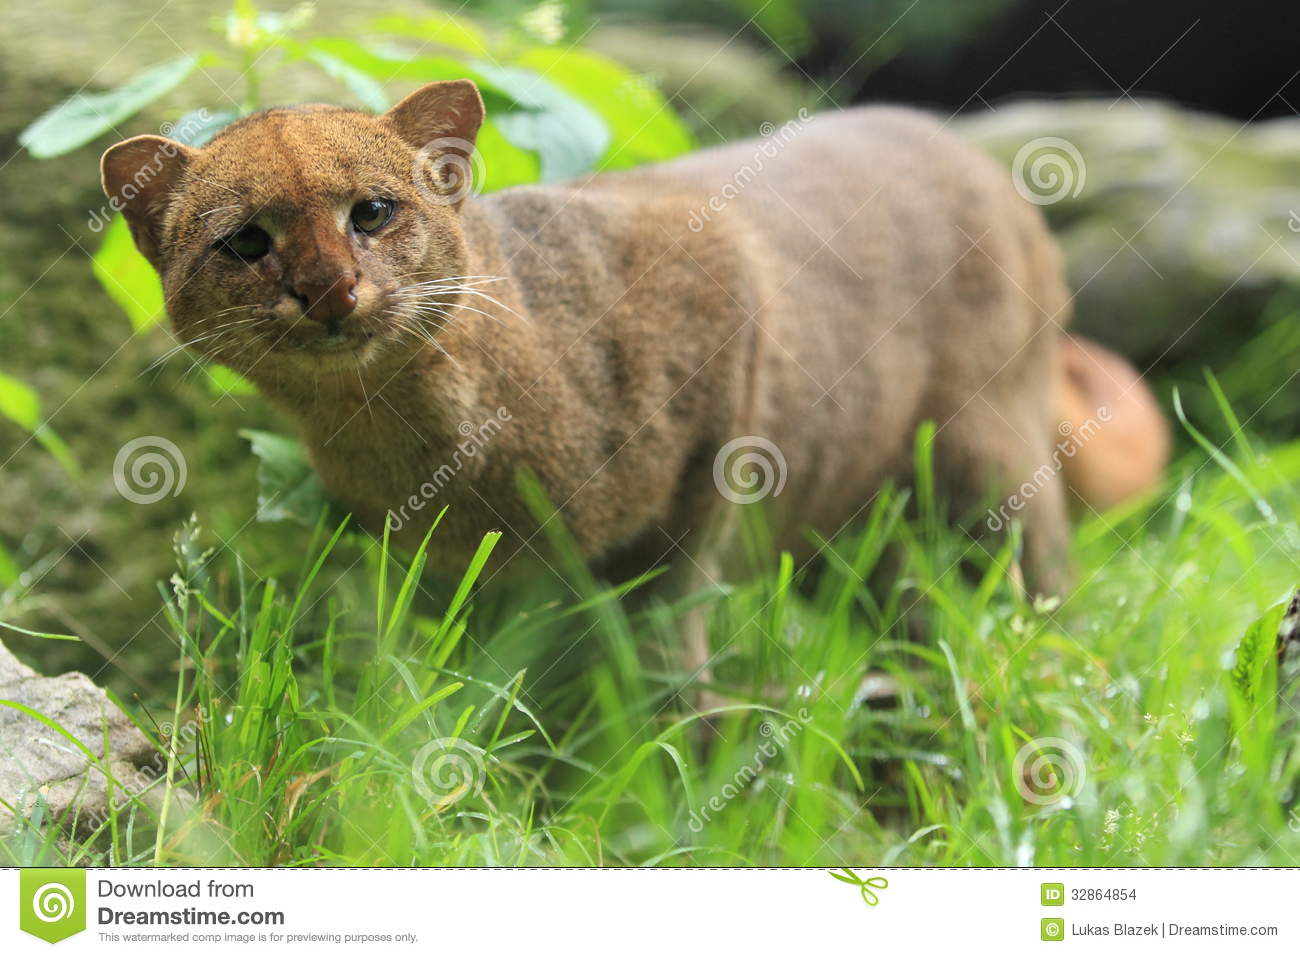Jaguarundi: (62, 69, 1149, 595)
